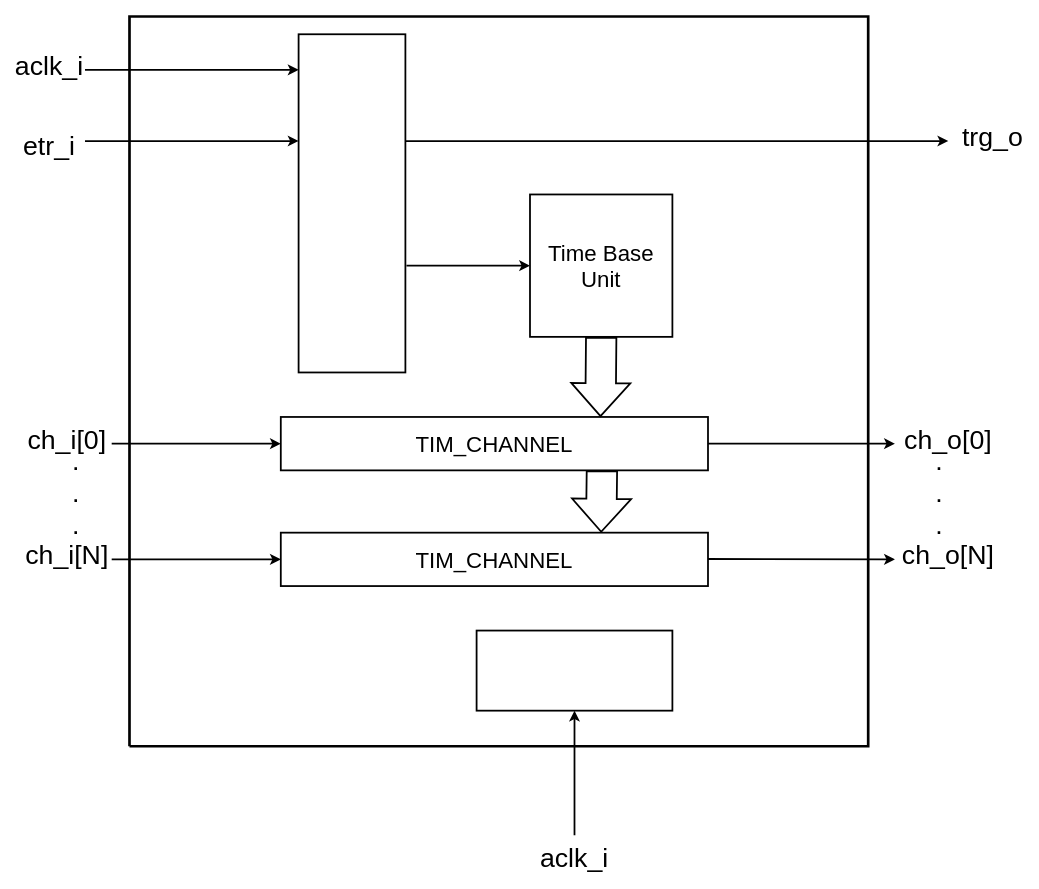
Some shapes in this 1039 by 889 pixel diagram are drawn without their labels. The centre of each missing label's shape, as x and y in pixels:
"Reg Block" belongs at (574,670).
"Trigger controller" belongs at (351,203).
